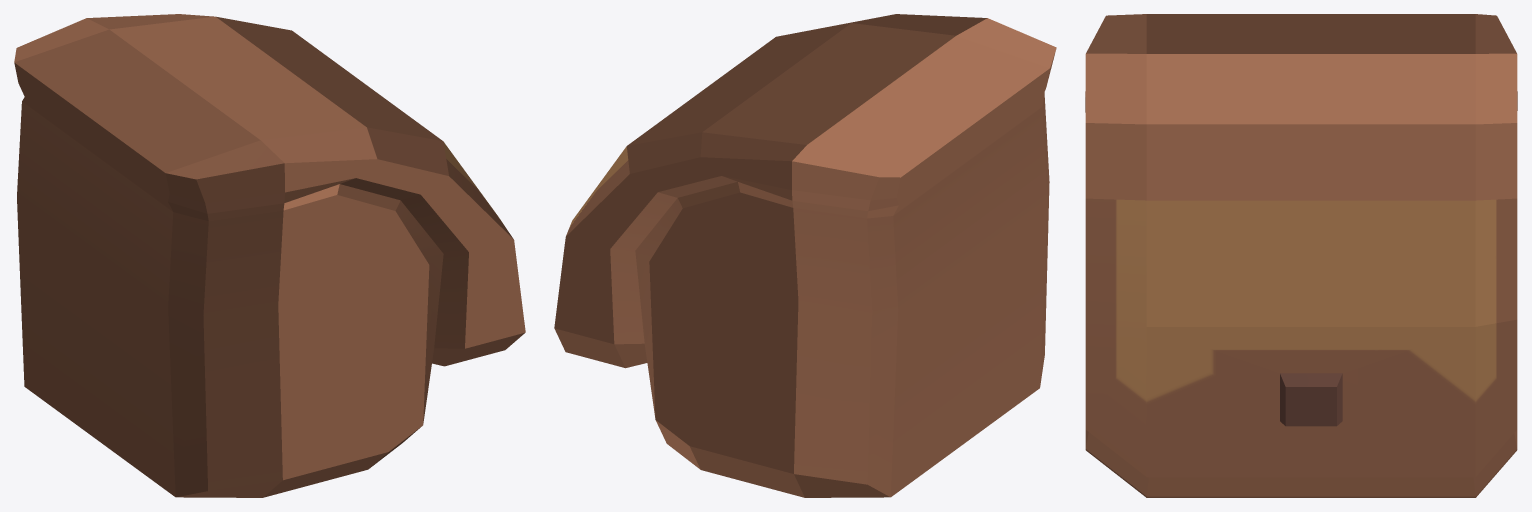
The model's file is CajaPequeña3.FBX.
3 renders of one model, left to right at view 1: azimuth 30°, elevation 25°; view 2: azimuth 150°, elevation 25°; view 3: azimuth 270°, elevation 25°, orthographic. The views are drawn at different scales.
Parts seen in each view (by area): view 1: bandolera; view 2: bandolera; view 3: bandolera.
Part boxes in pixels (bbox=[...]): bandolera: bbox=[14, 14, 525, 497]; bandolera: bbox=[554, 14, 1056, 497]; bandolera: bbox=[1085, 14, 1517, 497].
Size of the model in its own units: 104 by 100 by 99.83.
Materials: 1 (1 with a texture image).
